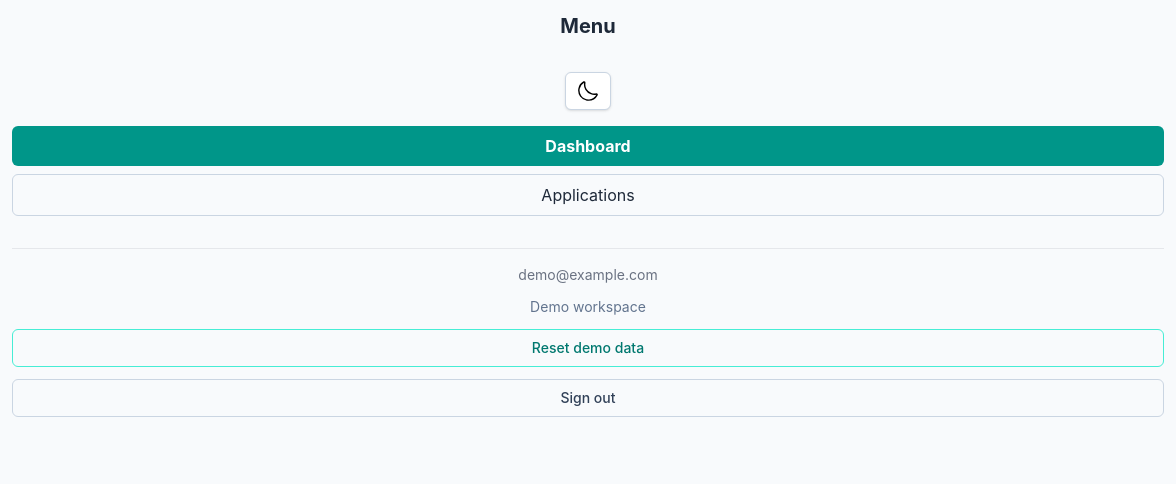
SideBar › resets demo data through the backend route for demo users
The image size is (1176, 484).
Click the button "Reset demo data". click: (588, 348)
box: [12,329,1164,367]
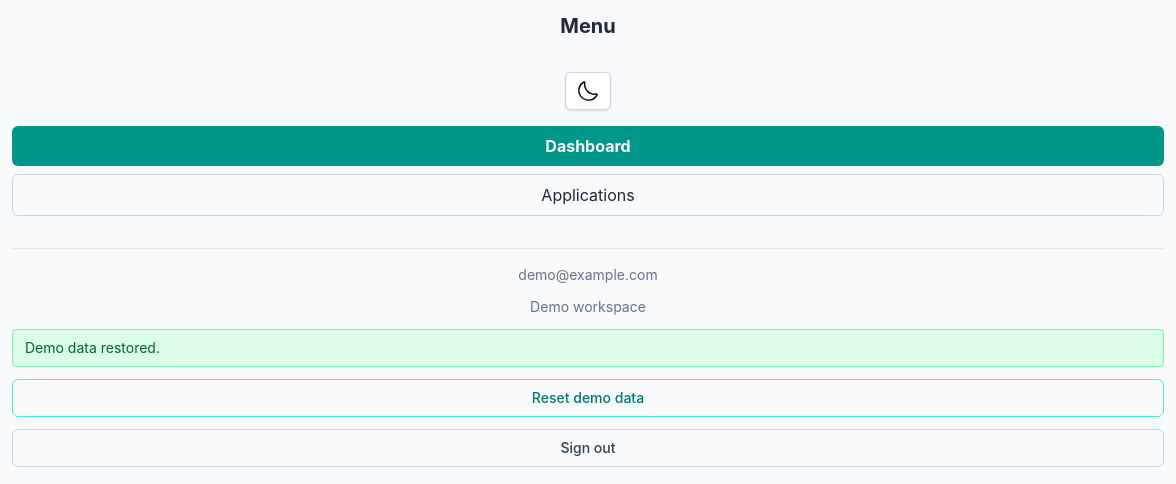
Now the text "Demo data restored." is shown, box [12,329,1164,367]
